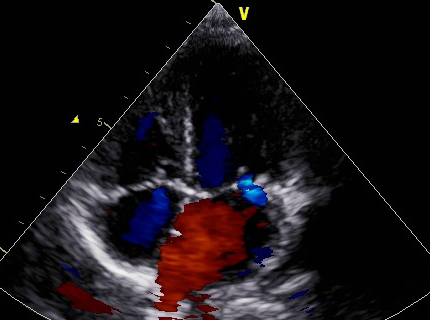MR: (200, 165, 269, 207)
